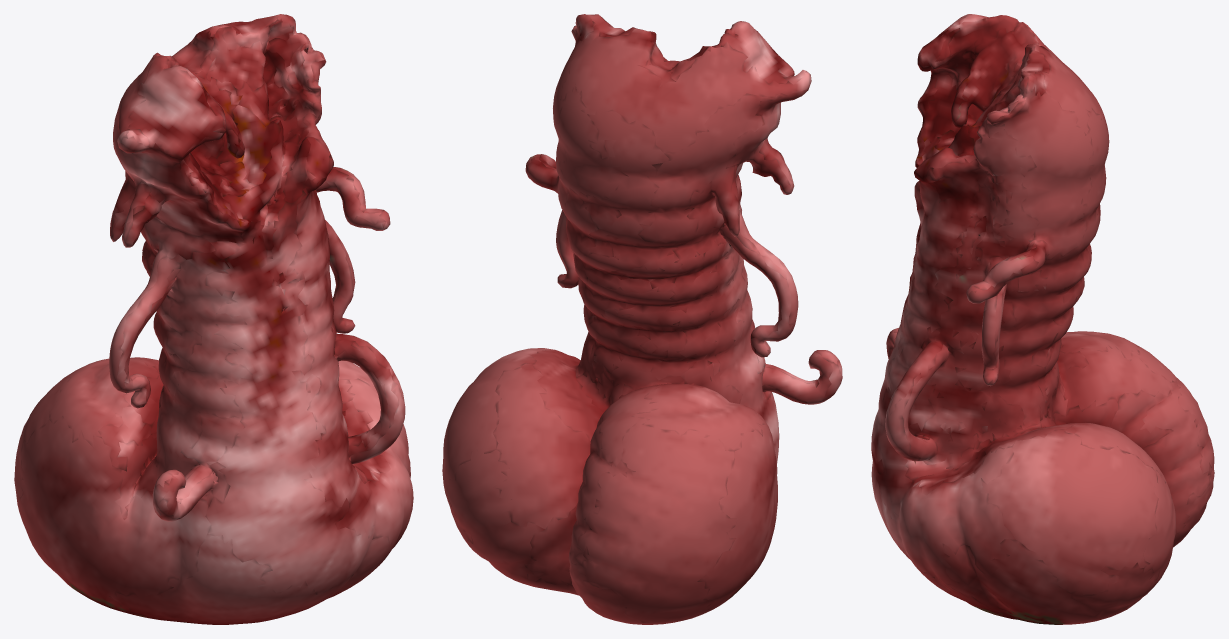
File: SARGI0.obj
3 views of the same model, side by side, from view 1: azimuth 30°, elevation 25°; view 2: azimuth 150°, elevation 25°; view 3: azimuth 270°, elevation 25° (orthographic). The views are drawn at different scales.
Bounding box in the file's own units: 0.6185 × 1 × 0.5946.
Materials: 1 (1 with a texture image).
